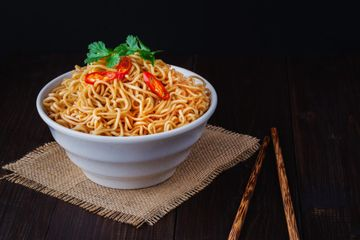Mie: (56, 48, 209, 152)
